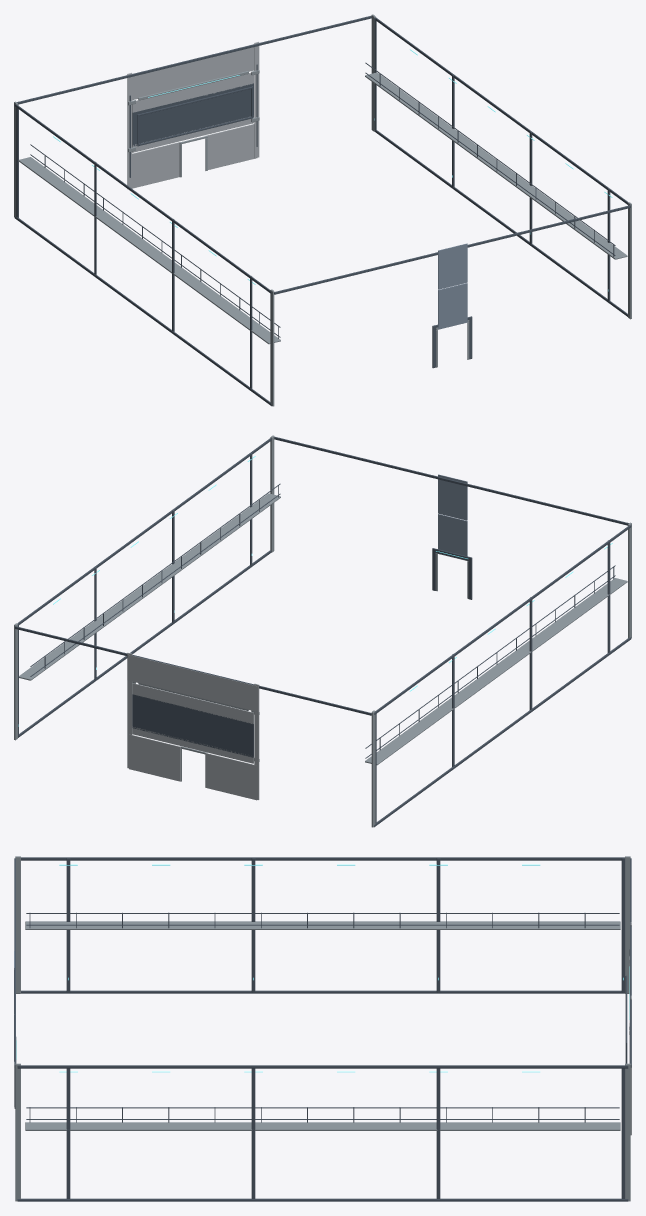
The model's file is clinical_service_frame_clean.glb.
The picture shows the model from 3 angles, top to bottom: view 1: azimuth 30°, elevation 25°; view 2: azimuth 150°, elevation 25°; view 3: azimuth 270°, elevation 25°; orthographic projection. The views are drawn at different scales.
Visible parts, largest first — view 1: ClinicalCleanFrameAndGallery; view 2: ClinicalCleanFrameAndGallery; view 3: ClinicalCleanFrameAndGallery.
Part boxes in pixels (x1=…): ClinicalCleanFrameAndGallery: x1=14, y1=14, x2=631, y2=406; ClinicalCleanFrameAndGallery: x1=14, y1=435, x2=631, y2=827; ClinicalCleanFrameAndGallery: x1=14, y1=856, x2=631, y2=1201.
Size of the model in its own units: 32.04 by 9.92 by 40.08.
